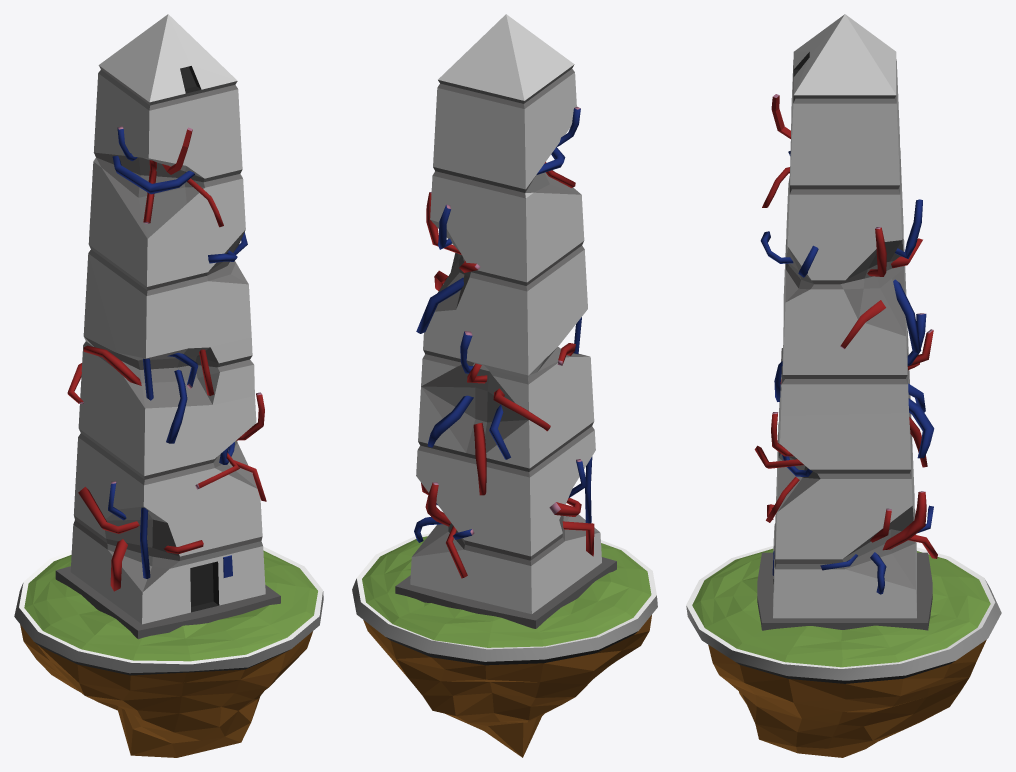
File: obelisk.glb
3 renders of one model, left to right at view 1: azimuth 30°, elevation 25°; view 2: azimuth 150°, elevation 25°; view 3: azimuth 270°, elevation 25°, orthographic. The views are drawn at different scales.
Parts seen in each view (by area): view 1: Obelisk; view 2: Obelisk; view 3: Obelisk.
Boxes of the visible parts, <box> form: Obelisk: <box>14,14,323,757</box>; Obelisk: <box>352,14,657,757</box>; Obelisk: <box>686,14,1001,757</box>.
Bounding box in the file's own units: 4.39 × 11.47 × 4.38.
Materials: 1 (1 with a texture image).
